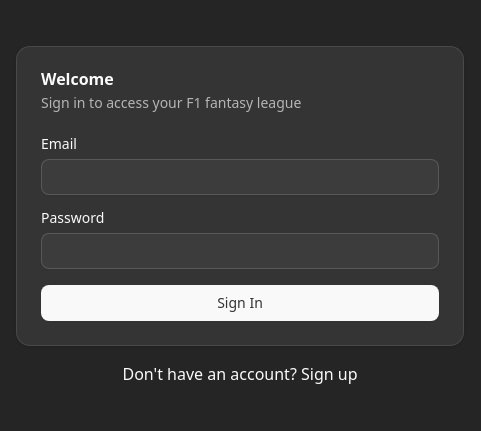
Scenario: SignInForm › shows error message on failed login
Type "fail@example.com" into the field labelled "Email".
click(240, 177); type("fail@example.com")  # box [41,159,439,195]
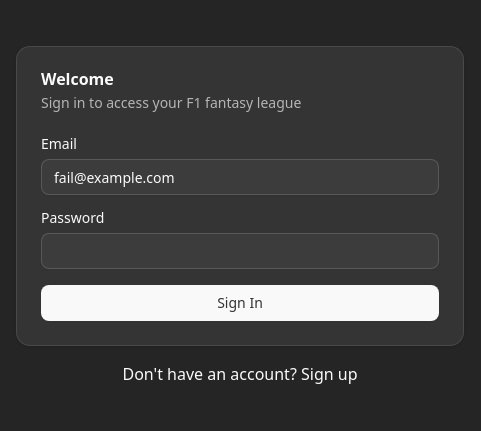
Type "badpass" into the password field labelled "Password".
click(240, 251); type("badpass")  # box [41,233,439,269]
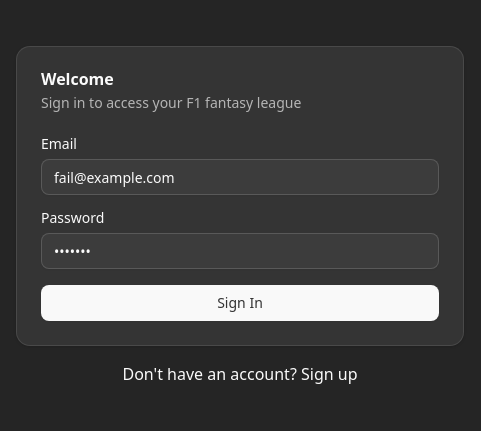
Click the button "Sign In".
click(240, 303)  # box [41,285,439,321]
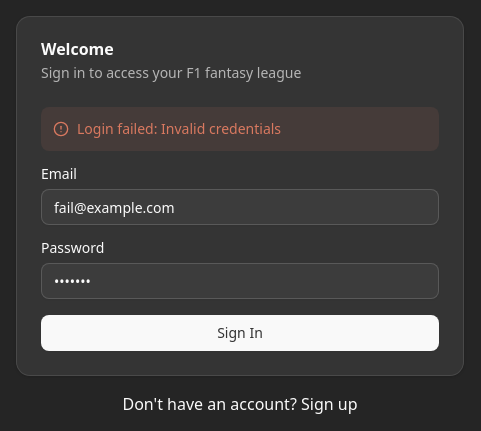
Expected: the message reads "Login failed: Invalid credentials", [77,119,281,138]
